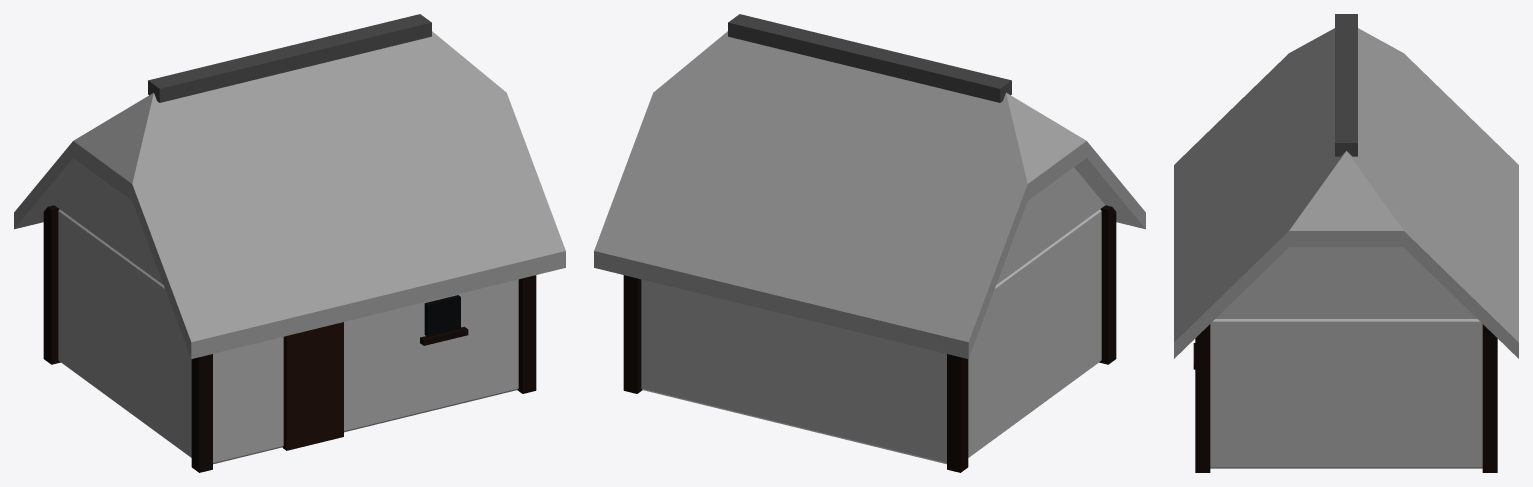
The model's file is home_small_j.fbx.
The picture shows the model from 3 angles, left to right: view 1: azimuth 30°, elevation 25°; view 2: azimuth 150°, elevation 25°; view 3: azimuth 270°, elevation 25°; orthographic projection. The views are drawn at different scales.
Visible parts, largest first — view 1: home_small_j; view 2: home_small_j; view 3: home_small_j.
Part boxes in pixels (left/top/right/bottom): home_small_j: left=14, top=14, right=565, bottom=472; home_small_j: left=594, top=14, right=1145, bottom=472; home_small_j: left=1174, top=14, right=1518, bottom=472.
Size of the model in its own units: 5.56 by 4.59 by 4.56.
